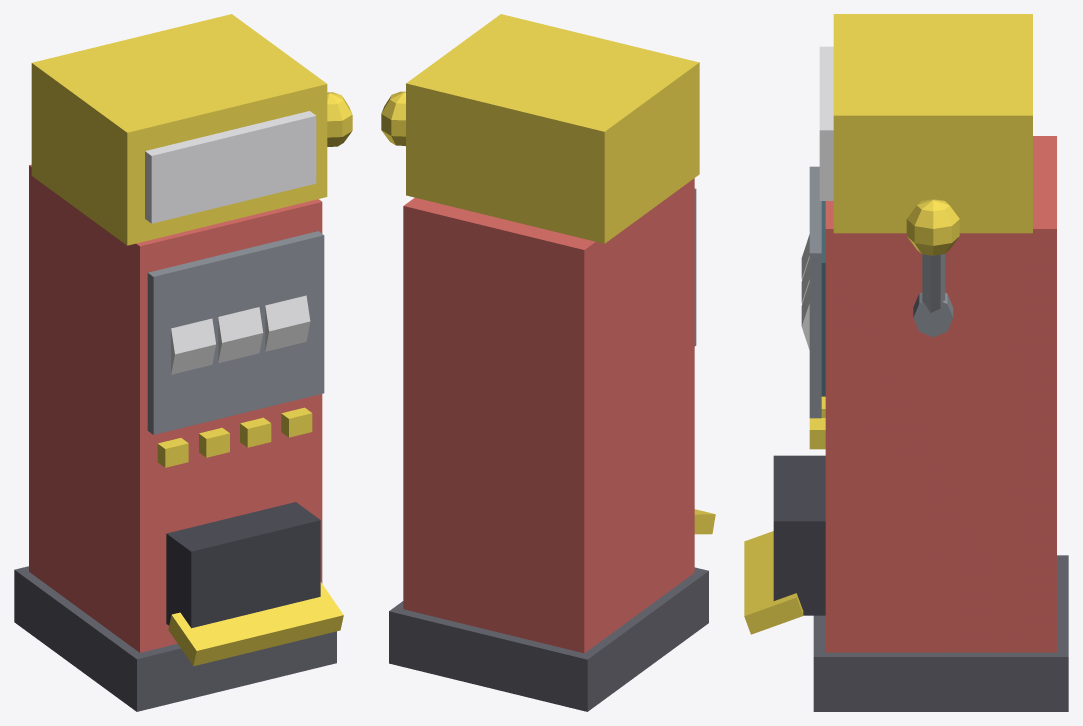
File: slot_machine.glb
3 views of the same model, side by side, from view 1: azimuth 30°, elevation 25°; view 2: azimuth 150°, elevation 25°; view 3: azimuth 270°, elevation 25° (orthographic). The views are drawn at different scales.
Parts seen in each view (by area): view 1: slot_machine; view 2: slot_machine; view 3: slot_machine.
Part boxes in pixels (x1,y1,x2,y2): slot_machine: (14, 14, 352, 711); slot_machine: (381, 14, 715, 711); slot_machine: (744, 14, 1068, 711).
Bounding box in the file's own units: 0.75 × 1.52 × 0.75.
